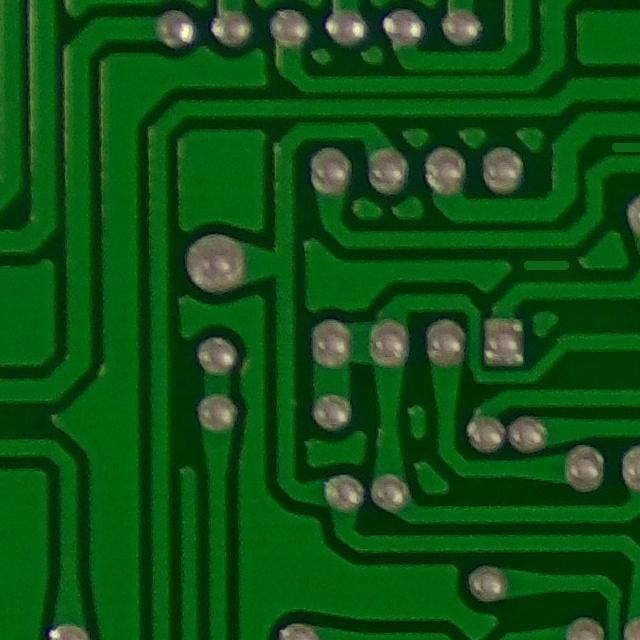spurious_copper: (515, 248, 576, 277)
